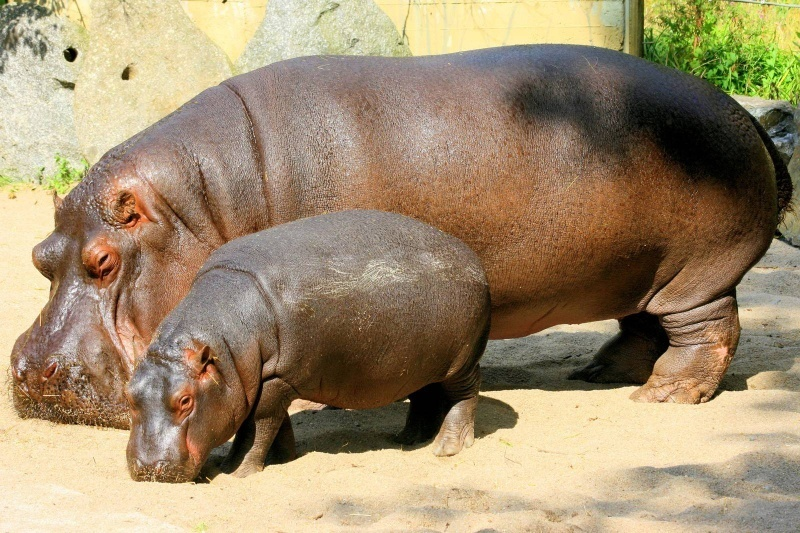hipopotamo: (2, 41, 789, 435), (128, 205, 492, 485)
